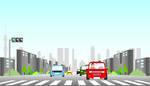car: (85, 60, 109, 80), (49, 64, 66, 78), (79, 64, 96, 77)
